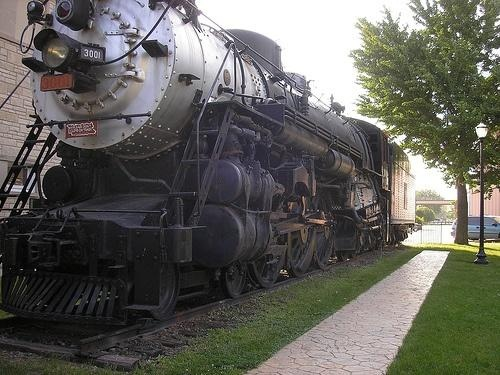car: (452, 216, 500, 244)
train: (1, 1, 419, 330)
